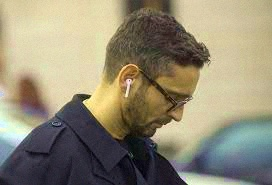earphone: (118, 64, 139, 98)
